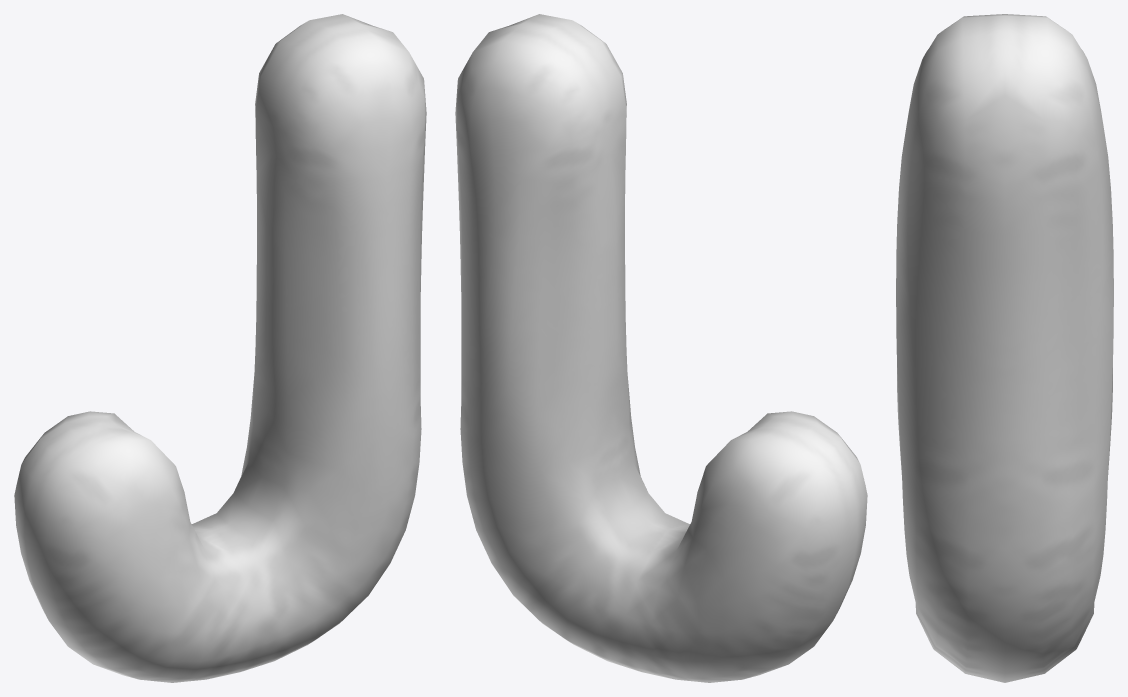
File: LettersBalloon01_J.FBX
3 views of the same model, side by side, from view 1: azimuth 30°, elevation 25°; view 2: azimuth 150°, elevation 25°; view 3: azimuth 270°, elevation 25° (orthographic). The views are drawn at different scales.
Visible parts, largest first — view 1: LettersBalloon01_J; view 2: LettersBalloon01_J; view 3: LettersBalloon01_J.
Boxes of the visible parts, x1=… form: LettersBalloon01_J: x1=14, y1=14, x2=426, y2=682; LettersBalloon01_J: x1=455, y1=14, x2=867, y2=682; LettersBalloon01_J: x1=896, y1=14, x2=1113, y2=682.
Size of what is drawn, in the model's own units: 0.3263 by 0.4883 by 0.1377.
